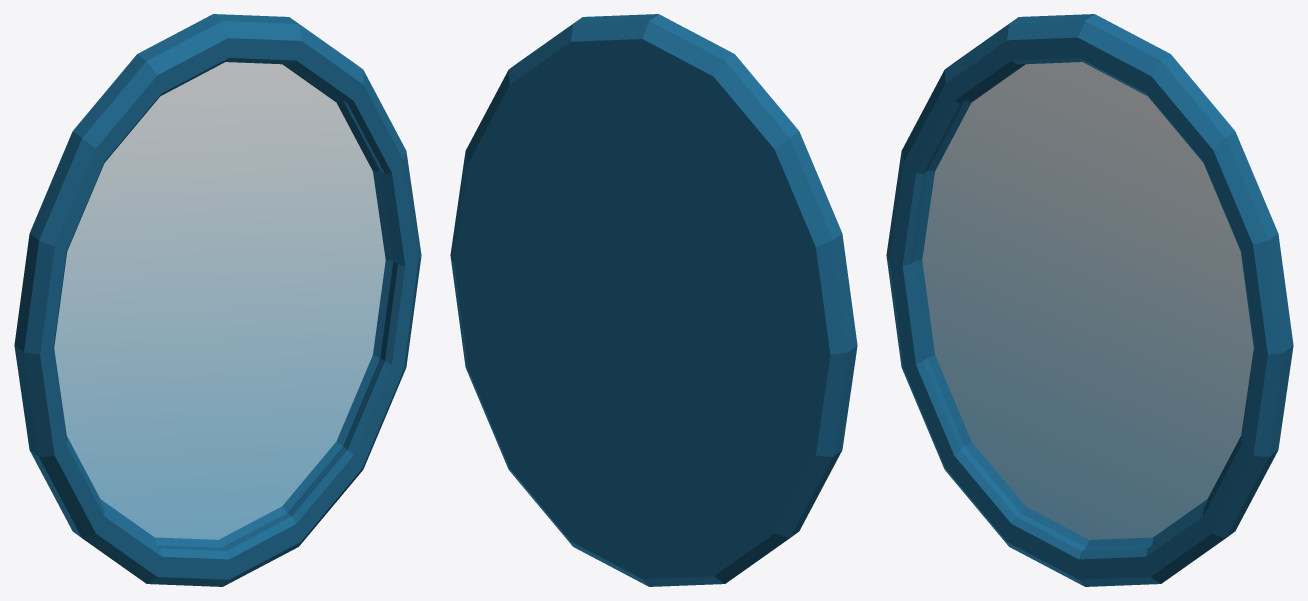
Rendered from Mirror.fbx.
3 renders of one model, left to right at view 1: azimuth 30°, elevation 25°; view 2: azimuth 150°, elevation 25°; view 3: azimuth 330°, elevation 25°, orthographic.
Parts seen in each view (by area): view 1: Mirror; view 2: Mirror; view 3: Mirror.
Boxes of the visible parts, left/top/right/bottom form: Mirror: left=14, top=14, right=421, bottom=586; Mirror: left=450, top=14, right=857, bottom=586; Mirror: left=886, top=14, right=1293, bottom=586.
Bounding box in the file's own units: 0.7297 × 0.9926 × 0.0726.
1 material, 1 textured.
